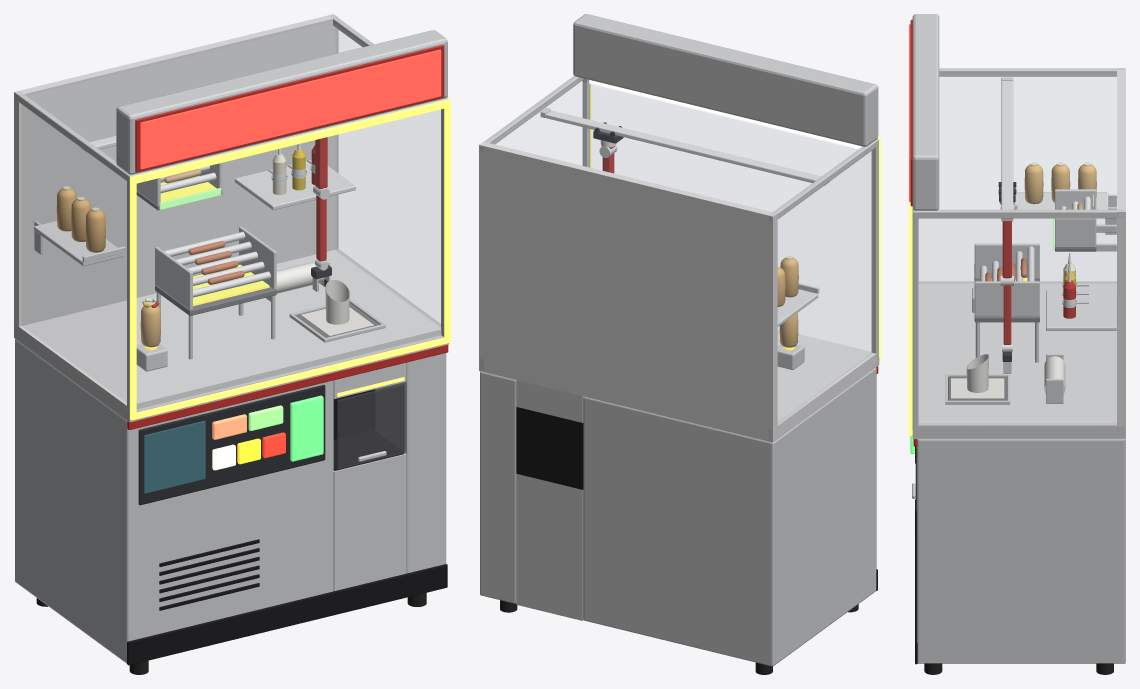
File: hotdog.glb
3 renders of one model, left to right at view 1: azimuth 30°, elevation 25°; view 2: azimuth 150°, elevation 25°; view 3: azimuth 270°, elevation 25°, orthographic. The views are drawn at different scales.
Visible parts, largest first — view 1: macchina, vetro, insegna, sportello, display, panini_scorta, tasto_prepara, griglia_vegana, carta_avvolta, carta, rotolo_carta, braccio_gomito (+6 smaller); view 2: macchina, vetro, panini_scorta, punzone; view 3: macchina, vetro, griglia_vegana, panini_scorta, carta, carta_avvolta, braccio_gomito, braccio_spalla, rotolo_carta, flacone_ketchup, botola, insegna.
Boxes of the visible parts, <box> form: macchina: <box>14,14,450,674</box>; vetro: <box>335,27,440,326</box>; insegna: <box>140,49,441,169</box>; sportello: <box>337,384,404,469</box>; display: <box>144,420,205,493</box>; panini_scorta: <box>56,186,105,252</box>; tasto_prepara: <box>290,395,323,461</box>; griglia_vegana: <box>136,163,222,210</box>; carta_avvolta: <box>325,280,349,324</box>; carta: <box>301,307,373,335</box>; rotolo_carta: <box>276,261,324,293</box>; braccio_gomito: <box>313,185,329,261</box>; macchina: <box>479,14,880,674</box>; vetro: <box>496,81,871,351</box>; panini_scorta: <box>777,256,798,306</box>; punzone: <box>777,345,804,369</box>; macchina: <box>909,14,1125,674</box>; vetro: <box>919,76,1116,282</box>; griglia_vegana: <box>1053,189,1116,251</box>; panini_scorta: <box>1024,162,1096,204</box>; carta: <box>951,378,1004,398</box>; carta_avvolta: <box>966,354,988,392</box>; braccio_gomito: <box>1000,275,1013,344</box>; braccio_spalla: <box>1000,204,1014,278</box>; rotolo_carta: <box>1044,356,1065,393</box>; flacone_ketchup: <box>1063,270,1075,318</box>; botola: <box>948,377,1007,400</box>; insegna: <box>909,24,910,201</box>.
Size of the model in its own units: 1.15 by 1.95 by 0.732.
